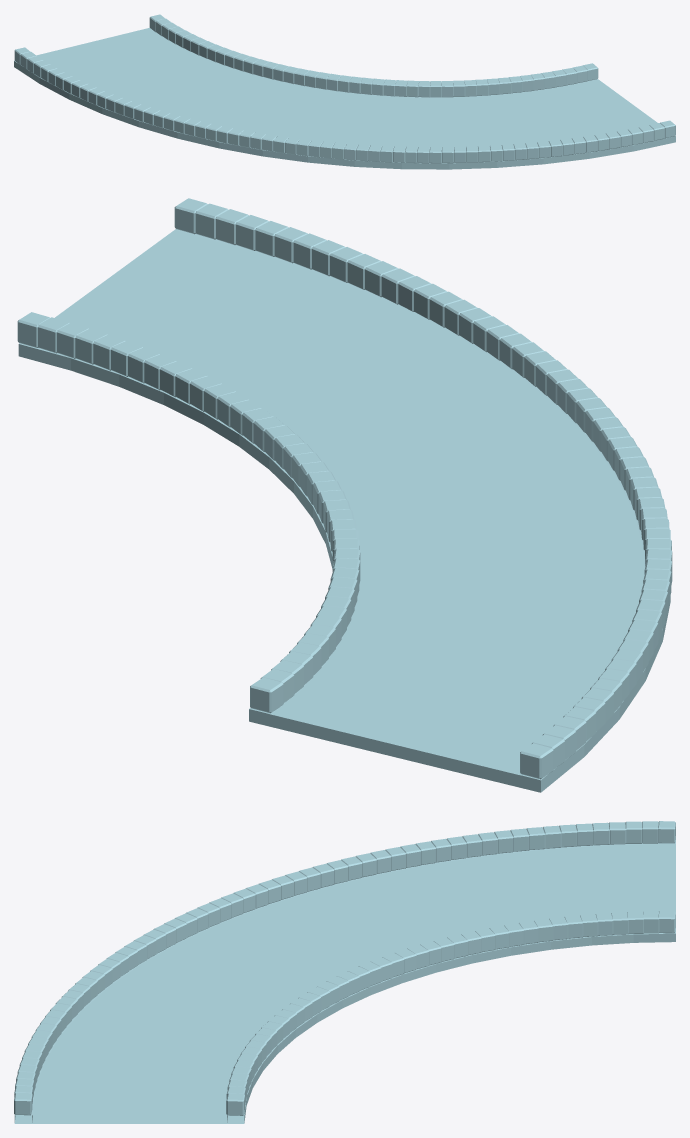
Rendered from pistaCurva (3).fbx.
3 views of the same model, one above another, from view 1: azimuth 30°, elevation 25°; view 2: azimuth 150°, elevation 25°; view 3: azimuth 270°, elevation 25° (orthographic). The views are drawn at different scales.
Parts seen in each view (by area): view 1: pista curva; view 2: pista curva; view 3: pista curva.
Boxes of the visible parts, box(x1,y1,x2,y2) form: pista curva: box(14, 14, 675, 169); pista curva: box(17, 198, 672, 792); pista curva: box(14, 821, 675, 1123).
Size of the model in its own units: 3425 by 138 by 3423.
